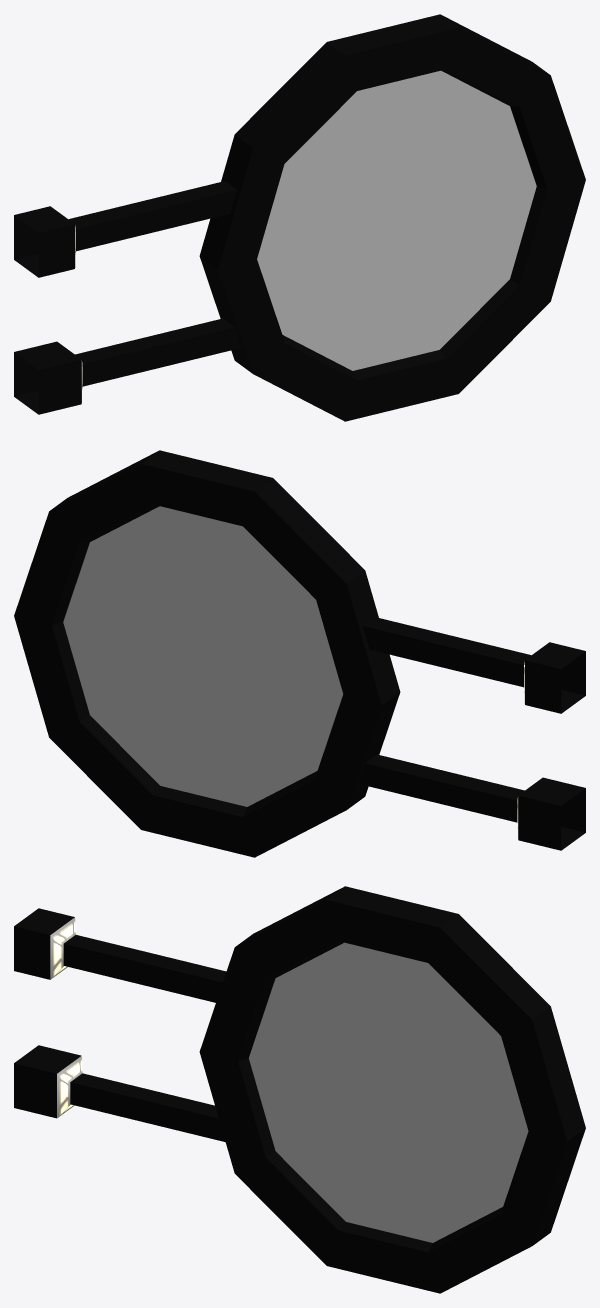
Rendered from Japanese_Sign_13_Art.fbx.
The picture shows the model from 3 angles, top to bottom: view 1: azimuth 30°, elevation 25°; view 2: azimuth 150°, elevation 25°; view 3: azimuth 330°, elevation 25°; orthographic projection.
Parts seen in each view (by area): view 1: Japanese_Sign_13; view 2: Japanese_Sign_13; view 3: Japanese_Sign_13.
Part boxes in pixels (box(x1,y1,x2,y2)): Japanese_Sign_13: box(14, 14, 585, 421); Japanese_Sign_13: box(14, 450, 585, 857); Japanese_Sign_13: box(14, 886, 585, 1293).
Size of the model in its own units: 1.38 by 0.8782 by 0.1073.
